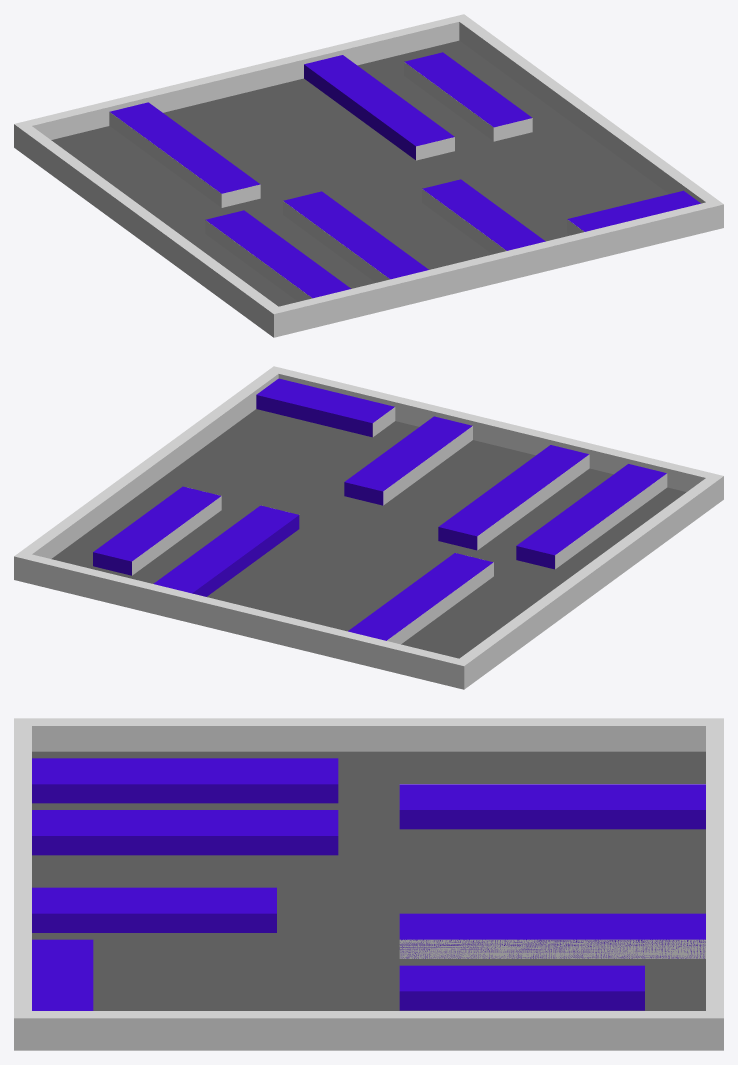
Rendered from roombox.glb.
3 views of the same model, one above another, from view 1: azimuth 30°, elevation 25°; view 2: azimuth 150°, elevation 25°; view 3: azimuth 270°, elevation 25° (orthographic). The views are drawn at different scales.
Parts seen in each view (by area): view 1: Room, Wall.003, Wall.002, Wall.001, Wall.000, FloorC, InWall.001, InWall.005, InWall.003, InWall.002, InWall.004, InWall.000; view 2: Room, Wall.001, Wall.000, InWall.003, InWall.002, InWall.001, FloorC, InWall.005, InWall.004; view 3: Room, InWall.000.
Boxes of the visible parts, <box> form: Room: <box>14,14,723,313</box>; Wall.003: <box>285,207,712,330</box>; Wall.002: <box>32,22,459,139</box>; Wall.001: <box>14,124,284,332</box>; Wall.000: <box>459,22,723,225</box>; FloorC: <box>14,143,723,337</box>; InWall.001: <box>109,112,260,207</box>; InWall.005: <box>404,62,532,141</box>; InWall.003: <box>205,220,312,301</box>; InWall.002: <box>283,201,389,282</box>; InWall.004: <box>422,189,506,254</box>; InWall.000: <box>416,137,454,160</box>; Room: <box>14,366,723,689</box>; Wall.001: <box>464,476,723,684</box>; Wall.000: <box>32,374,278,558</box>; InWall.003: <box>555,473,667,569</box>; InWall.002: <box>477,454,589,550</box>; InWall.001: <box>387,562,493,644</box>; FloorC: <box>464,495,723,689</box>; InWall.005: <box>132,496,221,575</box>; InWall.004: <box>383,426,472,505</box>; Room: <box>14,718,723,1050</box>; InWall.000: <box>399,939,705,958</box>.
Bounding box in the file's own units: 100 × 5 × 100.
